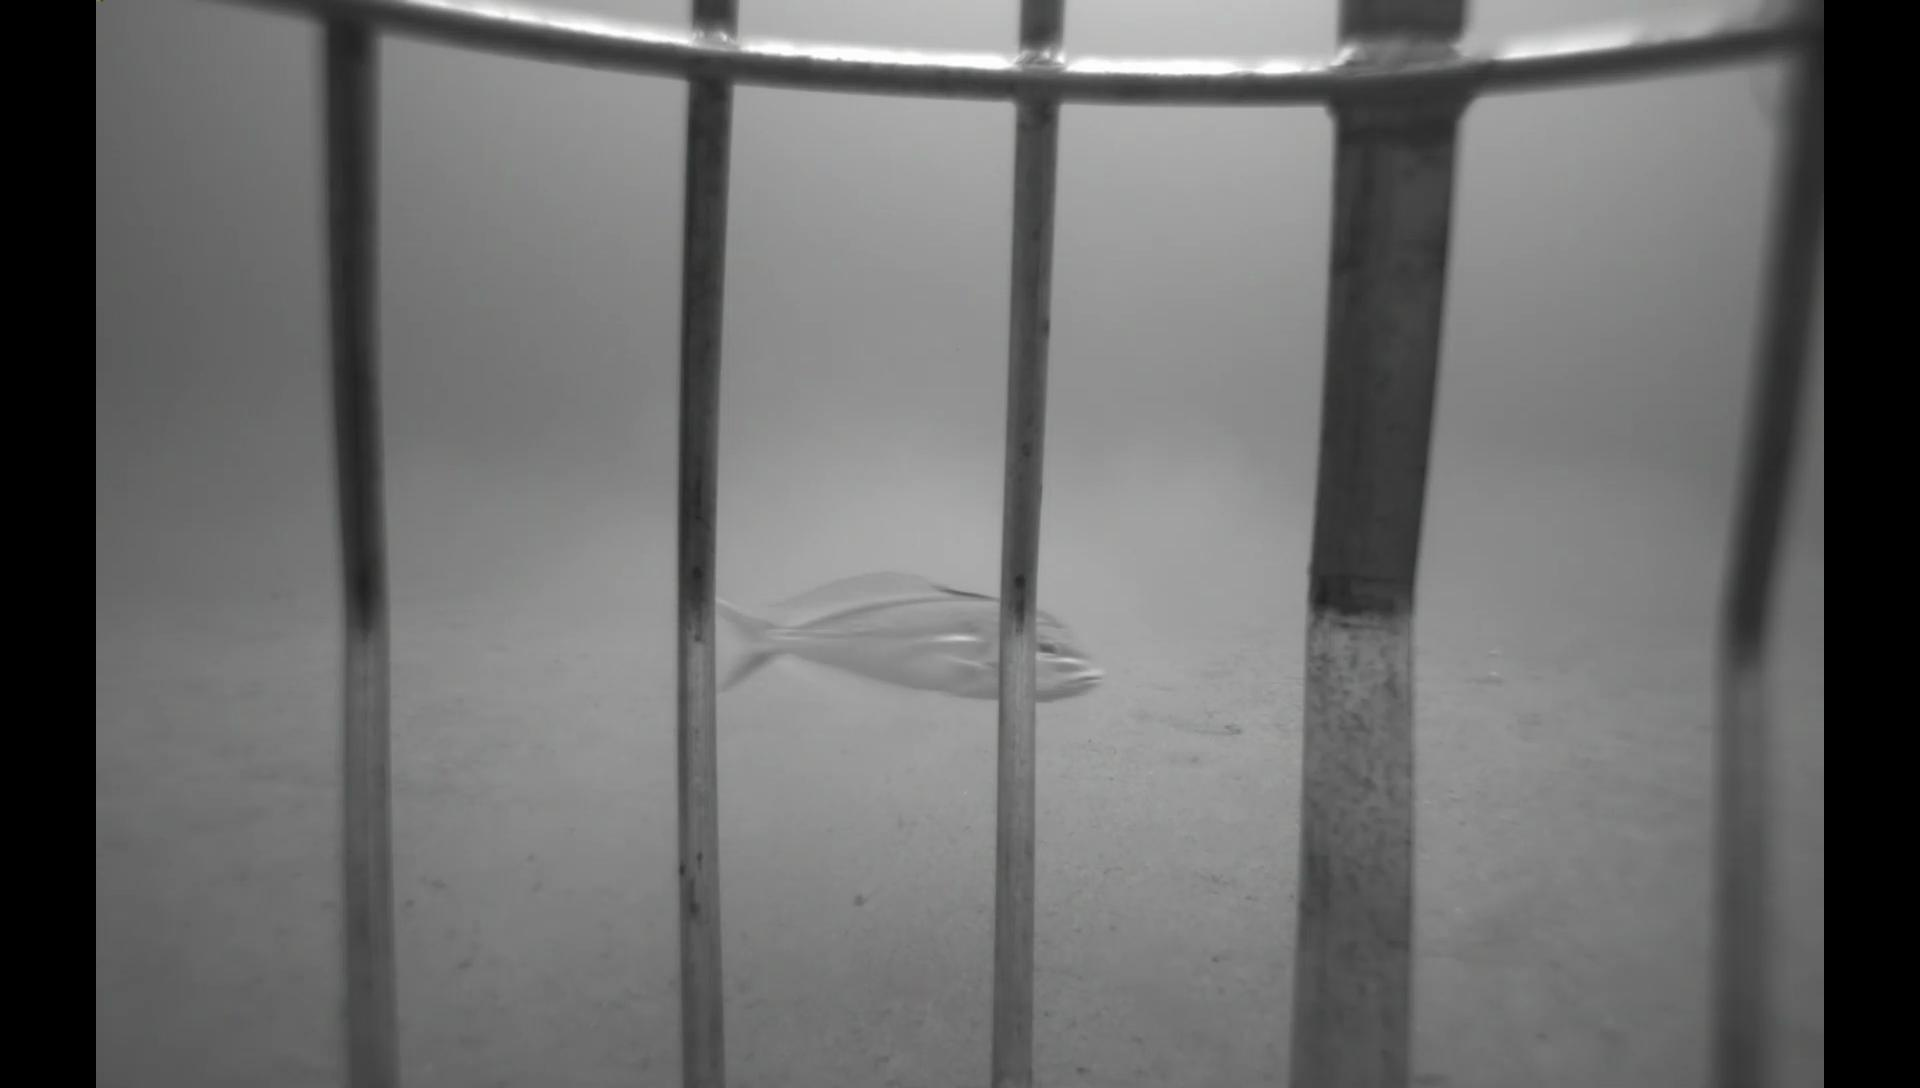CAULOLATILUSCYANOPS-170070101: (711, 558, 1120, 719)
SYACIUM-183011000: (1143, 699, 1249, 742)
